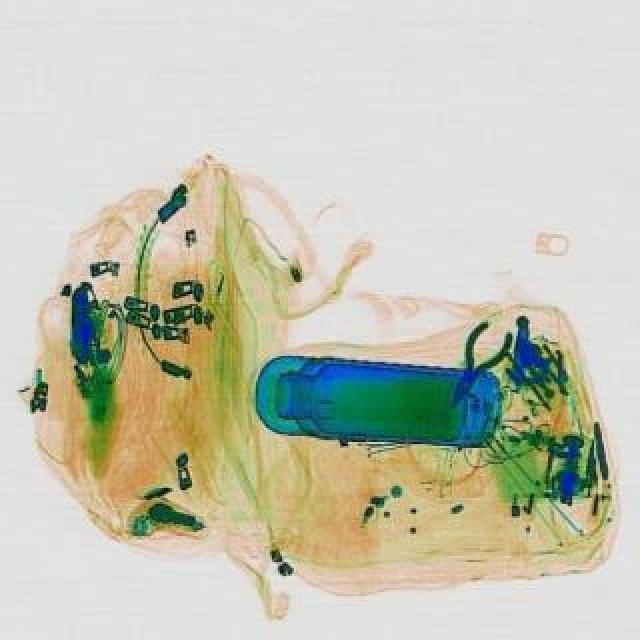wrench: (432, 318, 520, 418)
